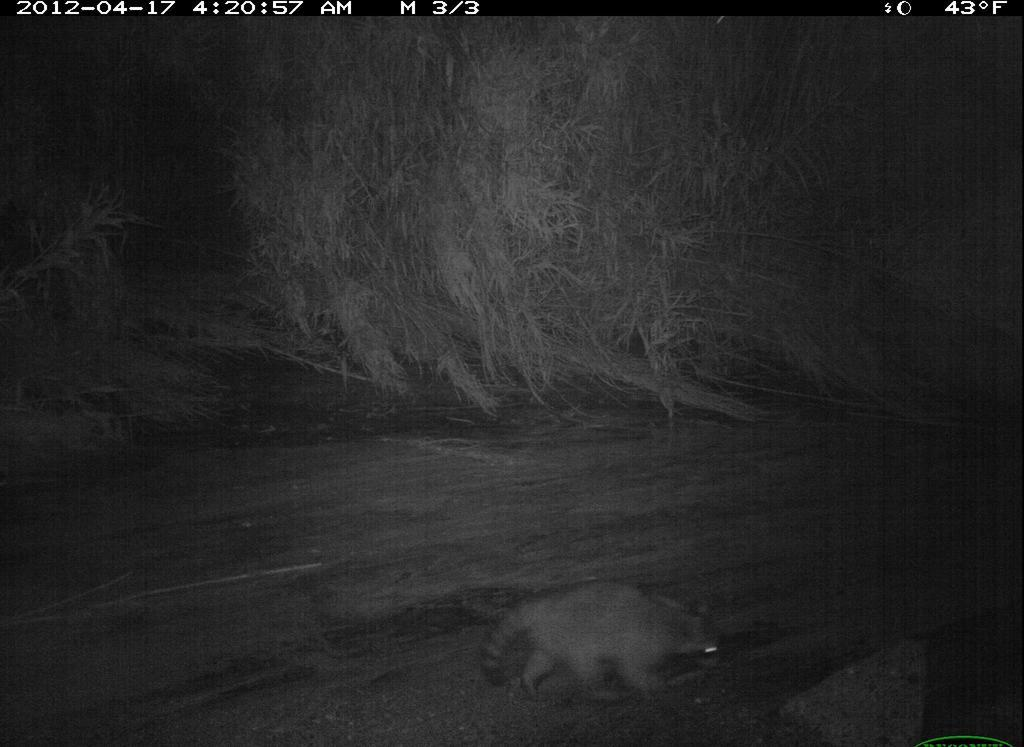raccoon: (477, 577, 742, 708)
